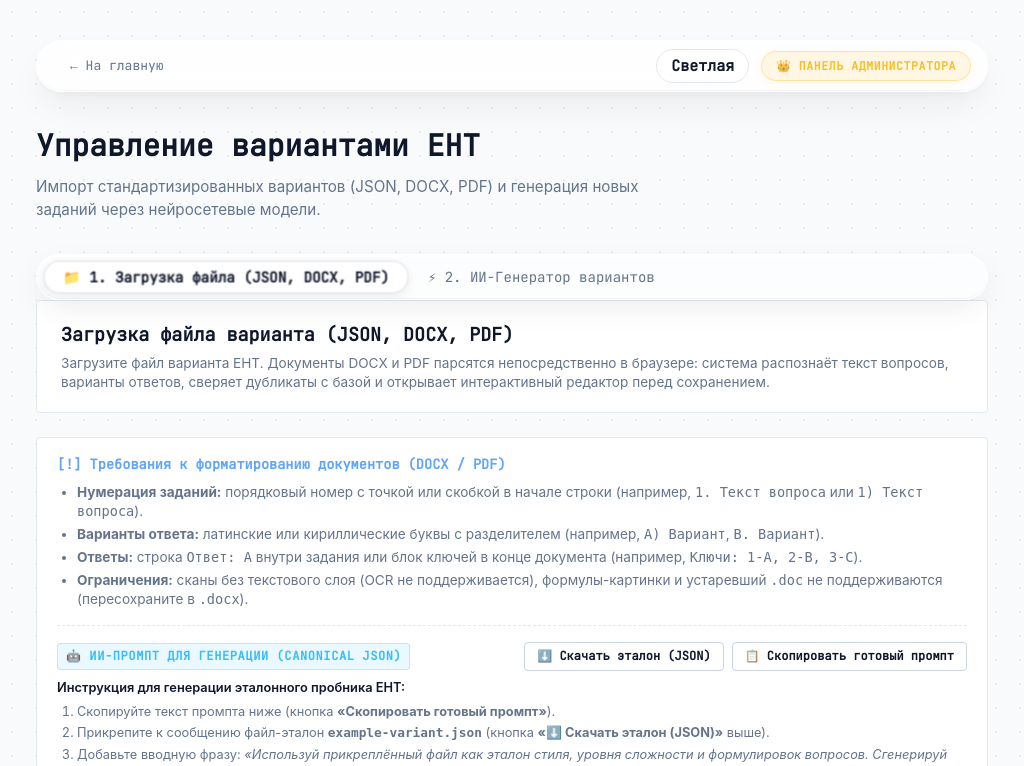
Test case: AdminVariantsPage component › switches to tab 2 (AI generator) when tab button is clicked
Step 1. Click the button "⚡ 2. ИИ-Генератор вариантов" → (541, 277), box [409, 261, 674, 293]
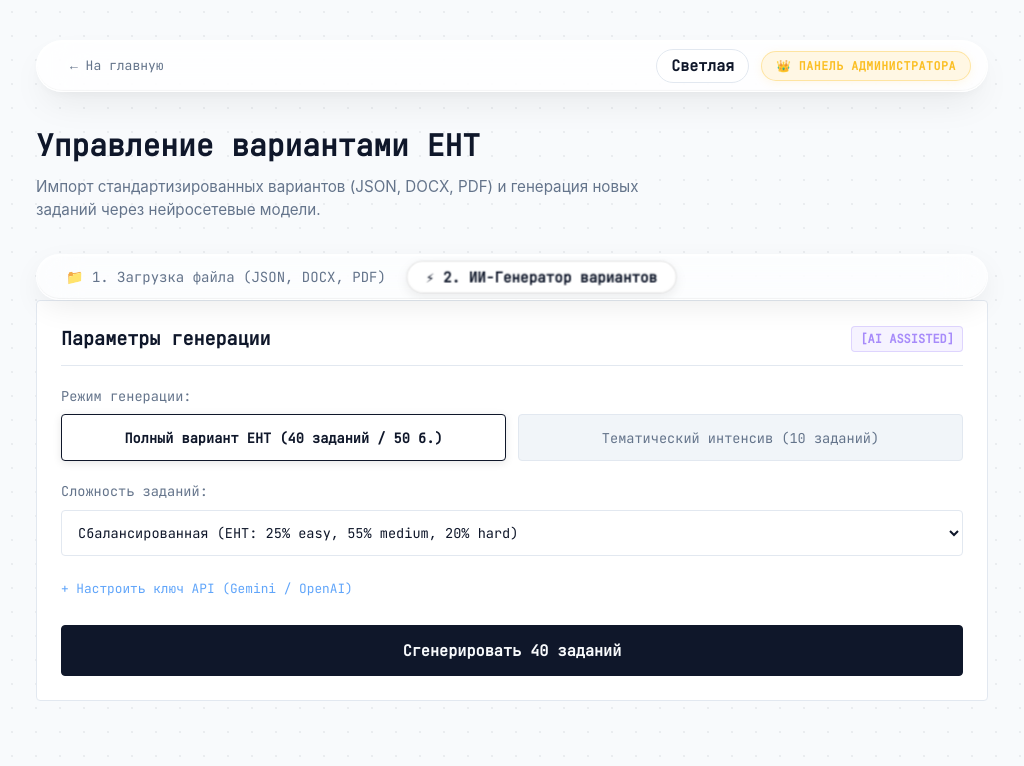
Expected: the element named "ИИ-Генератор вариантов" is shown, [36, 300, 988, 701]
Expected: the heading "Параметры генерации" is shown, [61, 325, 271, 353]
